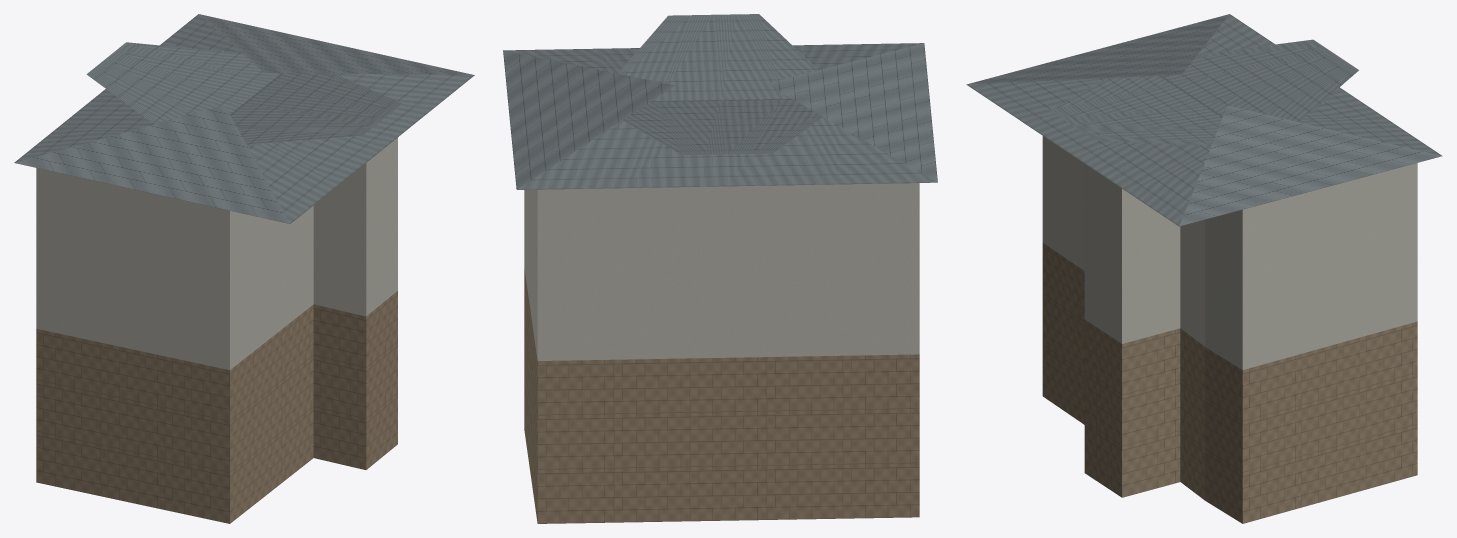
The model's file is bld_c37_47_196.gltf.
The picture shows the model from 3 angles, left to right: view 1: azimuth 30°, elevation 25°; view 2: azimuth 150°, elevation 25°; view 3: azimuth 270°, elevation 25°; orthographic projection. The views are drawn at different scales.
Parts seen in each view (by area): view 1: bld_c37_47_196; view 2: bld_c37_47_196; view 3: bld_c37_47_196.
Boxes of the visible parts, <box> form: bld_c37_47_196: <box>14,14,474,523</box>; bld_c37_47_196: <box>503,14,937,523</box>; bld_c37_47_196: <box>966,14,1442,523</box>.
Bounding box in the file's own units: 15.13 × 11.7 × 14.33.
3 materials, 3 textured.
